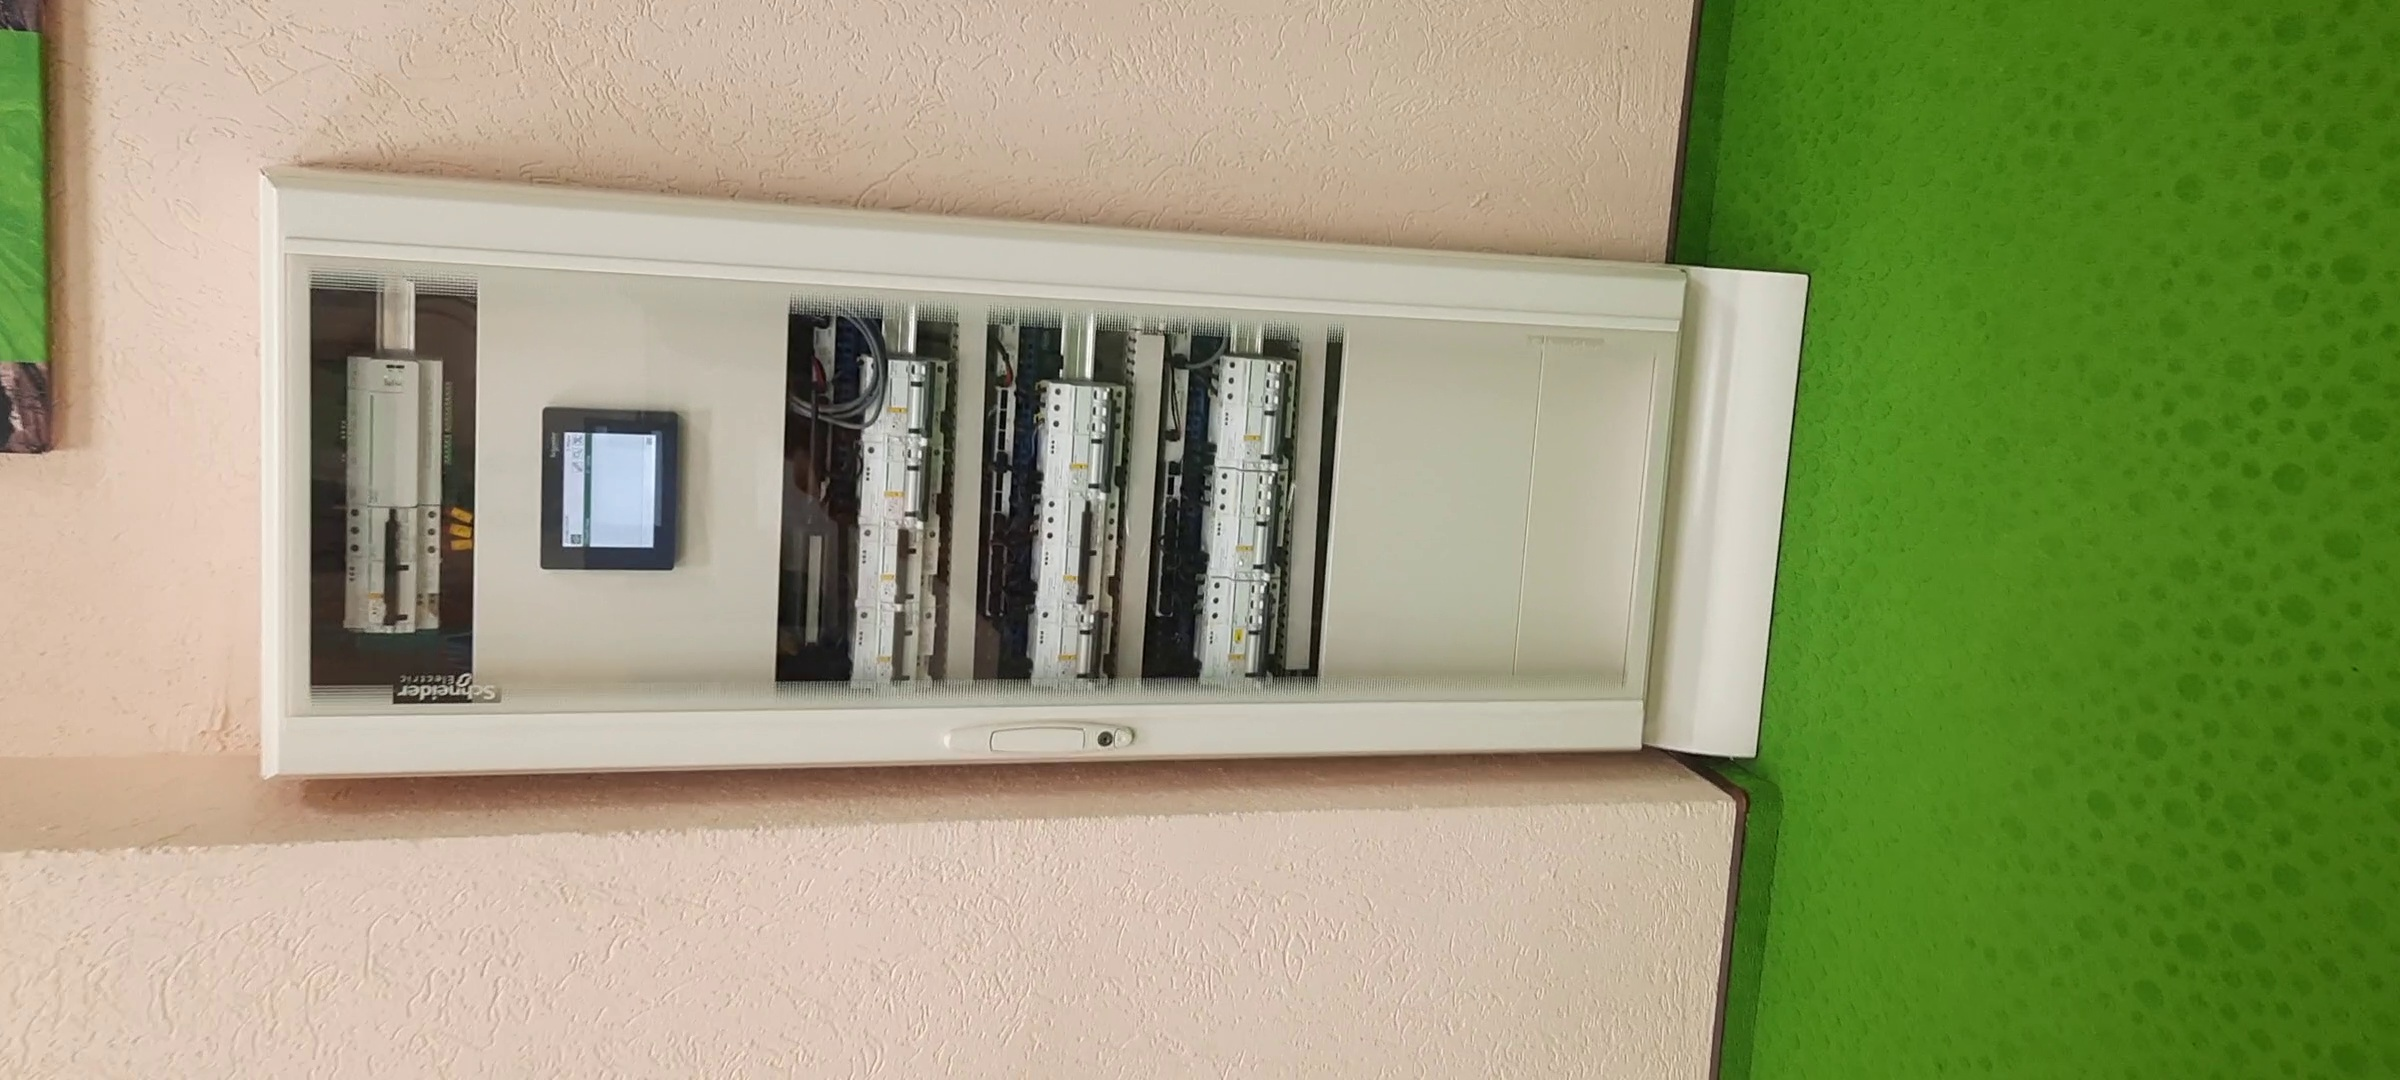smart_stand: (242, 203, 1811, 789)
